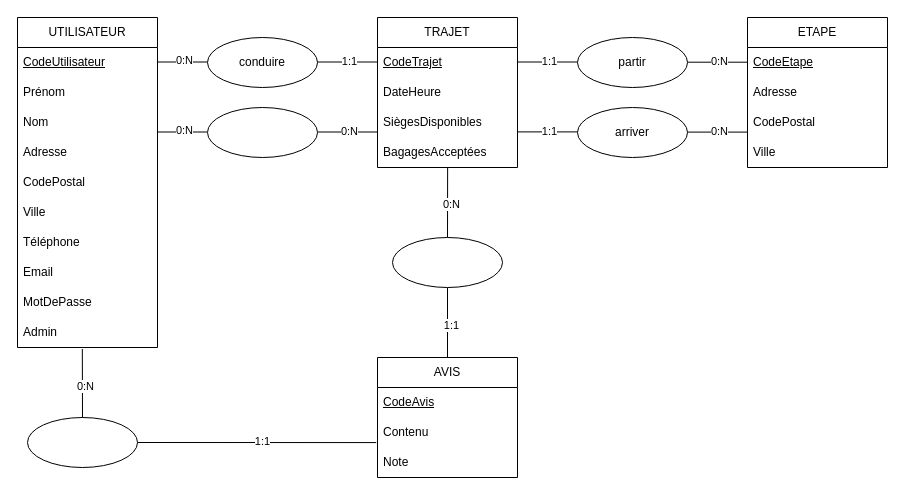
The diagram is 905 pixels wide and 495 high, and some of its shapes have lost their labels. Here are the shapes that lost their labels. From the top down, the centre of each, then its label:
At [262,132]: "être passager".
At [447,262]: "concerner".
At [82,442]: "écrire".
